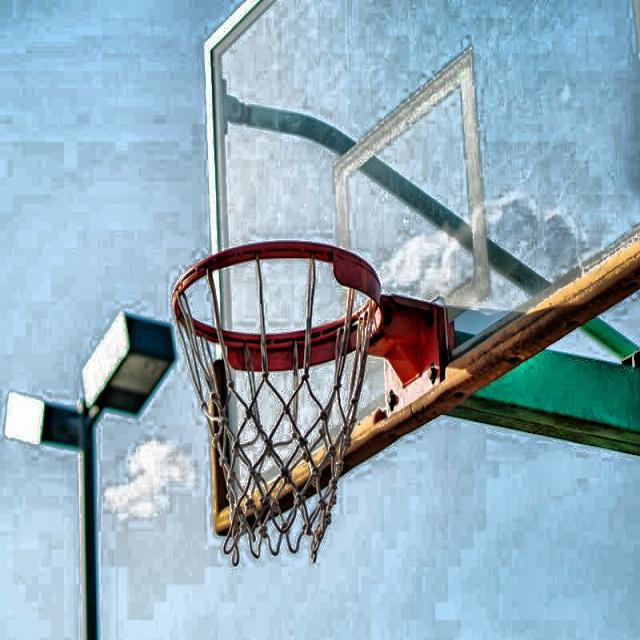rim: (172, 238, 378, 573)
